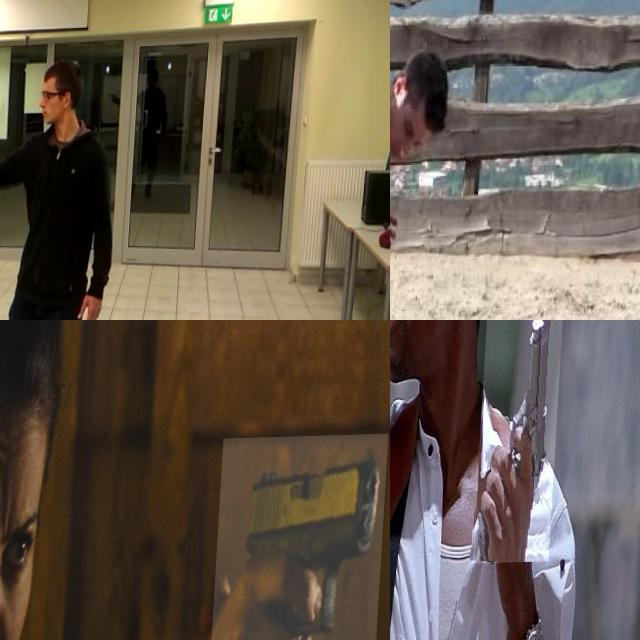-: (390, 72, 407, 184)
gun-knife-thesis - v11 Yolov5 augmented: (209, 437, 390, 640), (479, 320, 567, 564), (0, 132, 23, 179)
